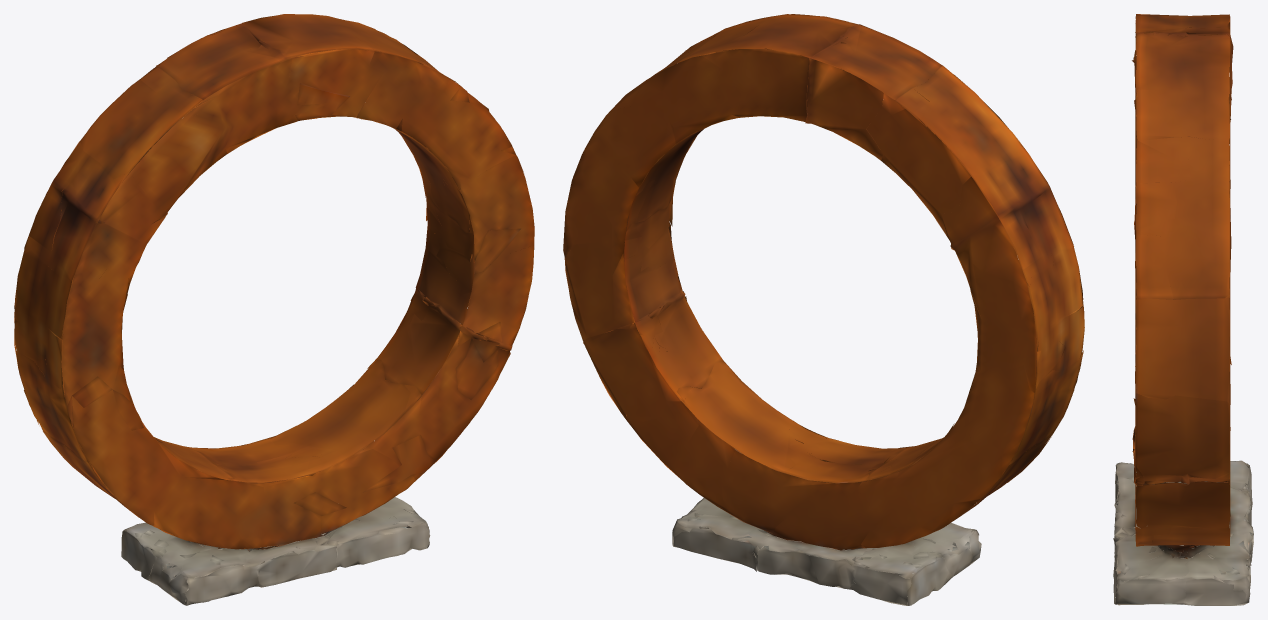
Rendered from corten.glb.
3 views of the same model, side by side, from view 1: azimuth 30°, elevation 25°; view 2: azimuth 150°, elevation 25°; view 3: azimuth 270°, elevation 25° (orthographic).
Visible parts, largest first — view 1: LO.001; view 2: LO.001; view 3: LO.001.
Part boxes in pixels (x1,y1,x2,y2): LO.001: [14, 14, 534, 605]; LO.001: [563, 14, 1084, 605]; LO.001: [1113, 14, 1253, 605].
Bounding box in the file's own units: 0.9384 × 0.9815 × 0.2443.
1 material, 1 textured.
